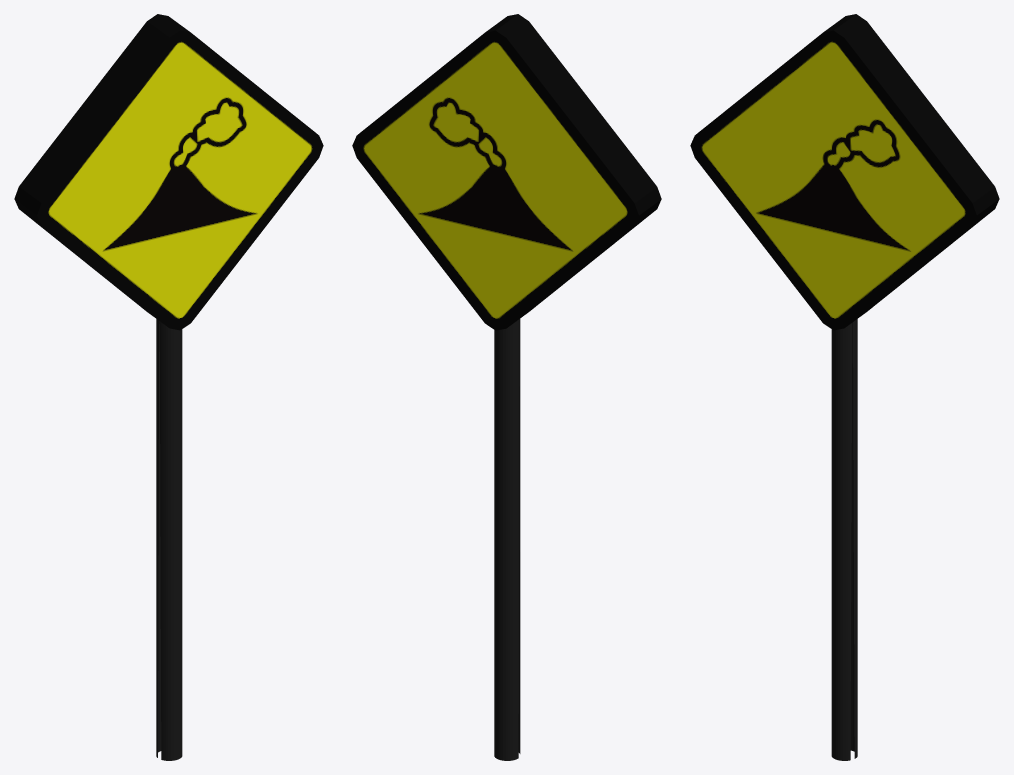
File: gunung berapi.fbx
The picture shows the model from 3 angles, left to right: view 1: azimuth 30°, elevation 25°; view 2: azimuth 150°, elevation 25°; view 3: azimuth 330°, elevation 25°; orthographic projection.
Visible parts, largest first — view 1: Plane.004, Circle; view 2: Plane.004, Circle; view 3: Plane.004, Circle.
Part boxes in pixels (x1,y1,x2,y2): Plane.004: (14,14,323,330); Circle: (156,319,182,760); Plane.004: (352,14,661,330); Circle: (494,319,520,760); Plane.004: (690,14,999,330); Circle: (831,319,857,760).
Size of the model in its own units: 327 by 799 by 44.77.
